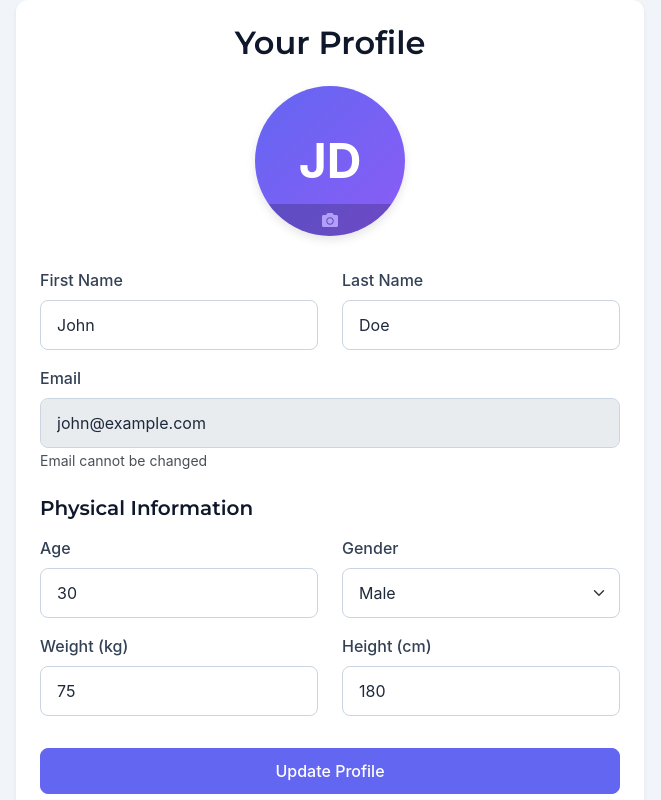
Profile Component › displays success message after successful update
Note: Submit the form
Click the button "Update Profile" at (330, 771), box [40,748,620,794]
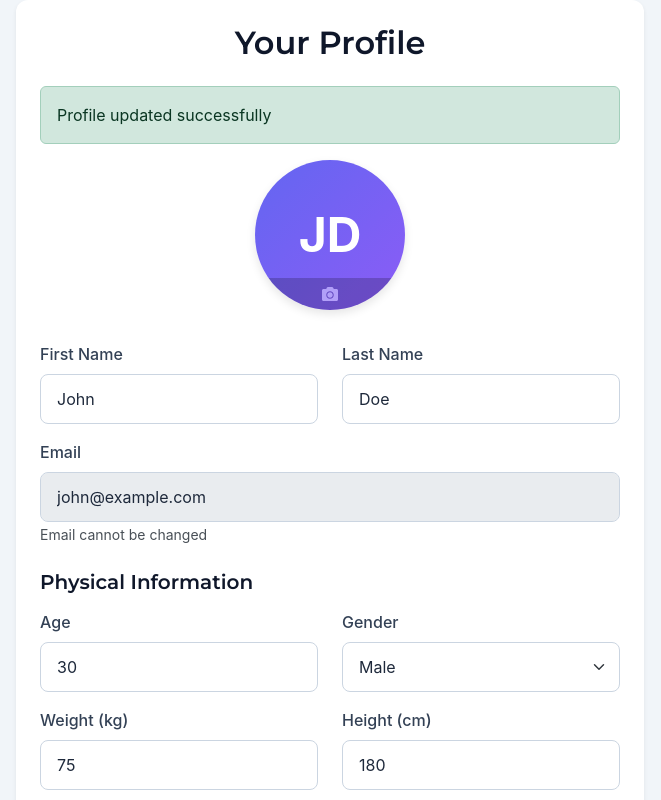
Check: the text "Profile updated successfully" is shown, box [40,86,620,144]
